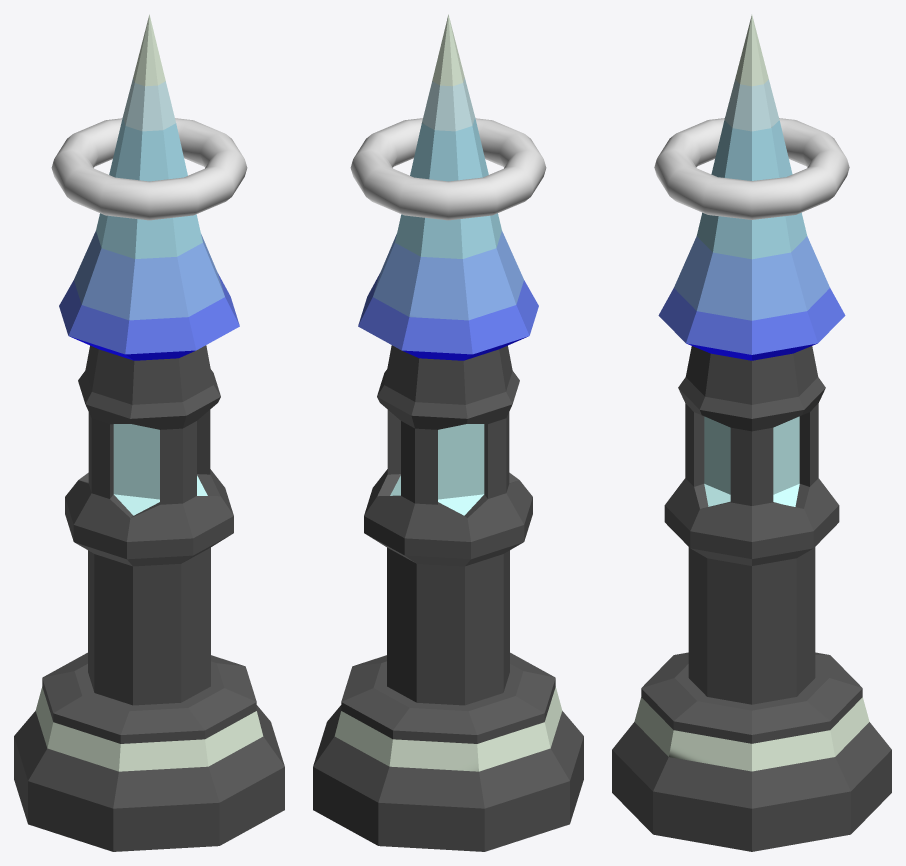
Rendered from RefractionTower.fbx.
3 views of the same model, side by side, from view 1: azimuth 30°, elevation 25°; view 2: azimuth 150°, elevation 25°; view 3: azimuth 270°, elevation 25° (orthographic).
Visible parts, largest first — view 1: RefractionTowerBody, RefractionTowerHead; view 2: RefractionTowerBody, RefractionTowerHead; view 3: RefractionTowerBody, RefractionTowerHead.
Part boxes in pixels (left/top/right/bottom): RefractionTowerBody: left=14, top=14, right=284, bottom=851; RefractionTowerHead: left=51, top=118, right=247, bottom=220; RefractionTowerBody: left=313, top=14, right=583, bottom=851; RefractionTowerHead: left=350, top=118, right=546, bottom=220; RefractionTowerBody: left=612, top=15, right=891, bottom=851; RefractionTowerHead: left=654, top=118, right=849, bottom=219.
Size of the model in its own units: 3.58 by 3.58 by 11.
2 materials, 1 textured.
